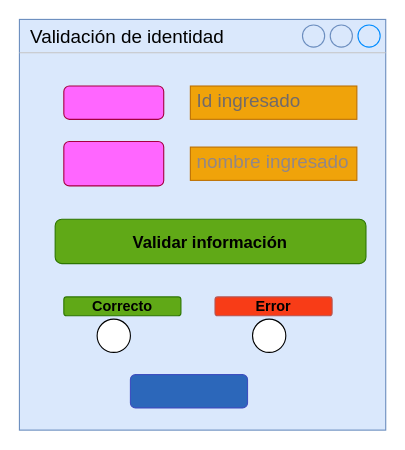
Image size: 405x450. Some labels were removed from this diagram. Here are the shapes that lost their labels. From the top down, the centre of each, then its label:
pixel 113 102: ID
pixel 113 163: Nombre completo
pixel 188 391: Ingresar
